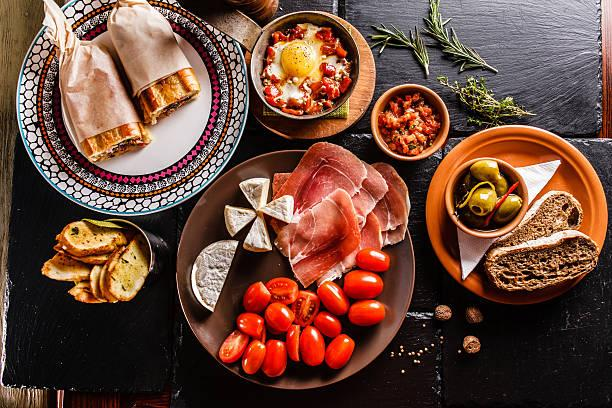Braised Crucian Carp: (176, 150, 411, 389), (18, 0, 243, 215), (425, 123, 612, 307), (250, 10, 359, 121)
